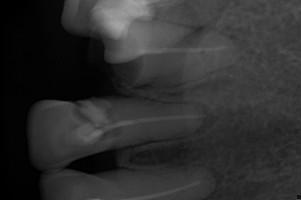Furcation Involvement: (191, 101, 217, 136), (207, 166, 224, 189)
